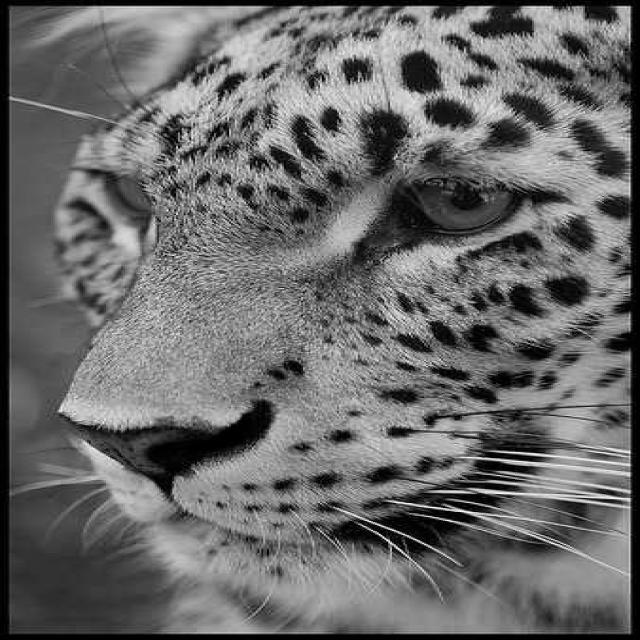Leopard: (9, 4, 630, 634)
